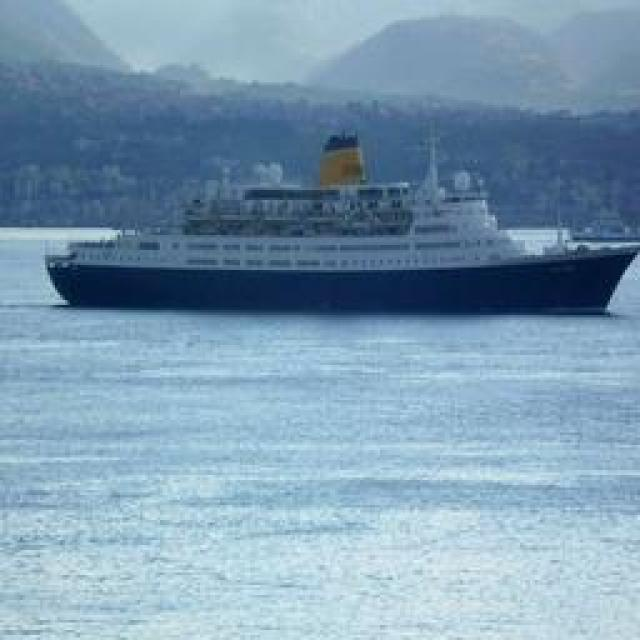CIV_Ship: (32, 135, 636, 315)
